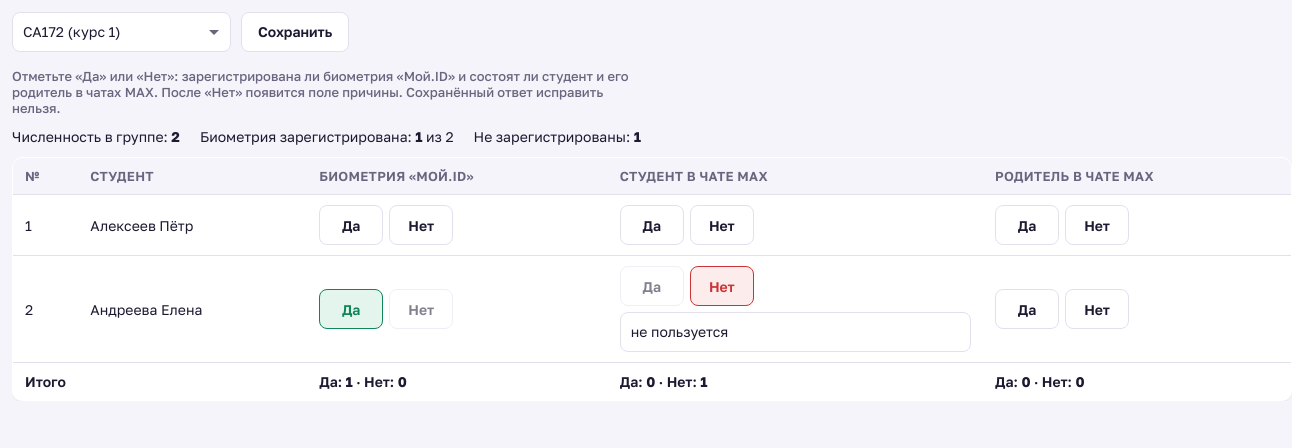
MyIdPanel — «Мой ID»: две кнопки «Да» / «Нет» › ошибка сохранения (в том числе «исправить нельзя») показывается, выбор остаётся
Check: the text "Алексеев Пётр" is shown, box [78,194,307,256]
What coordinates should you click on to do the following:
click the 2nd button "Да"
I would click on:
 (652, 225)
Its box is [620,205,684,245].
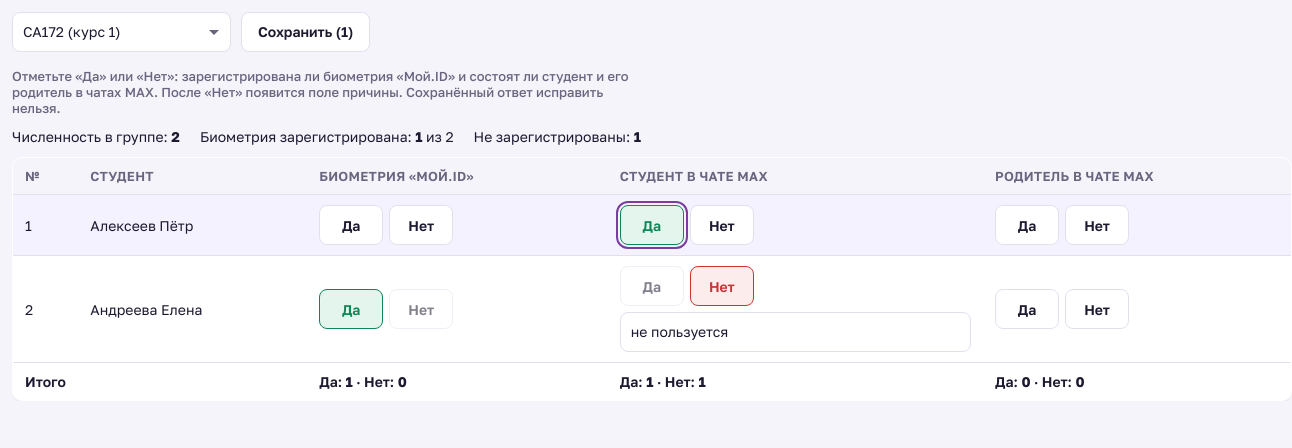
What coordinates should you click on to do the following:
click the button "Сохранить (1)"
I would click on:
 (306, 32)
Its box is [241,12,370,52].
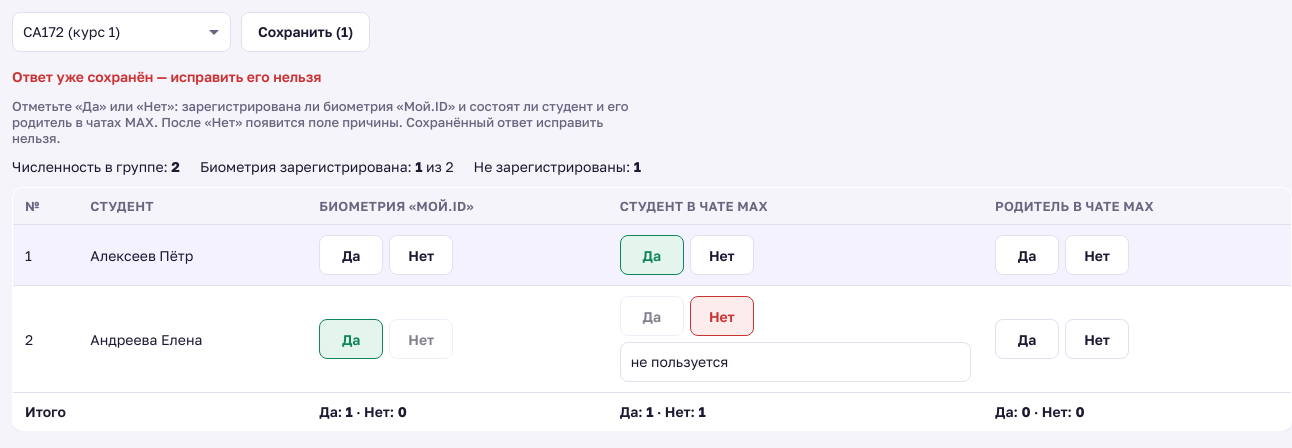
Check: the text "Ответ уже сохранён — исправить его нельзя" is shown, box [12,68,321,85]
